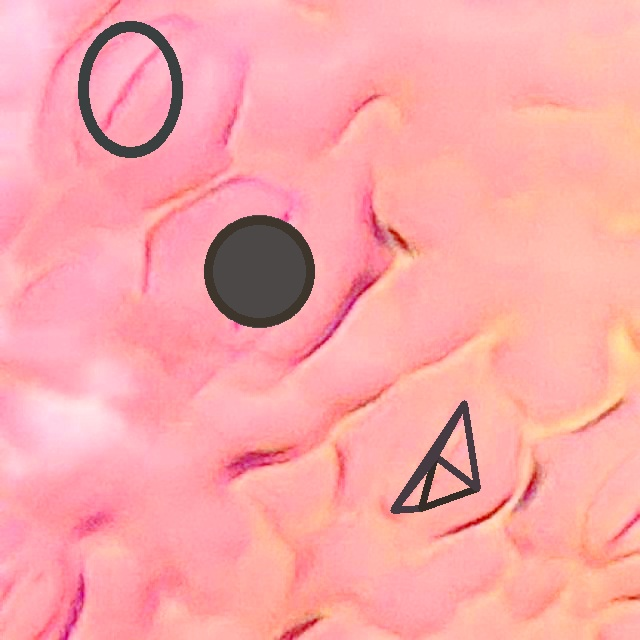open: (77, 20, 183, 158), (204, 215, 314, 327), (390, 400, 480, 511)
